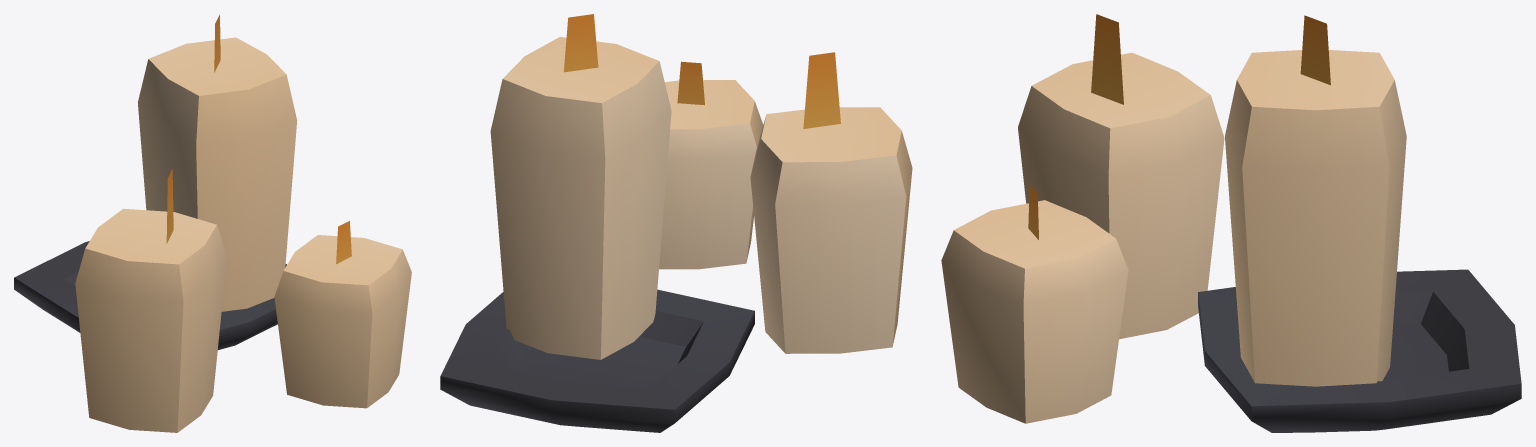
File: Candles.fbx
3 views of the same model, side by side, from view 1: azimuth 30°, elevation 25°; view 2: azimuth 150°, elevation 25°; view 3: azimuth 270°, elevation 25° (orthographic). The views are drawn at different scales.
Visible parts, largest first — view 1: Candles; view 2: Candles; view 3: Candles.
Boxes of the visible parts, box(x1,y1,x2,y2) form: Candles: box(14, 14, 411, 432); Candles: box(440, 14, 912, 432); Candles: box(941, 14, 1521, 432).
Size of the model in its own units: 17.08 by 17.65 by 23.19.
